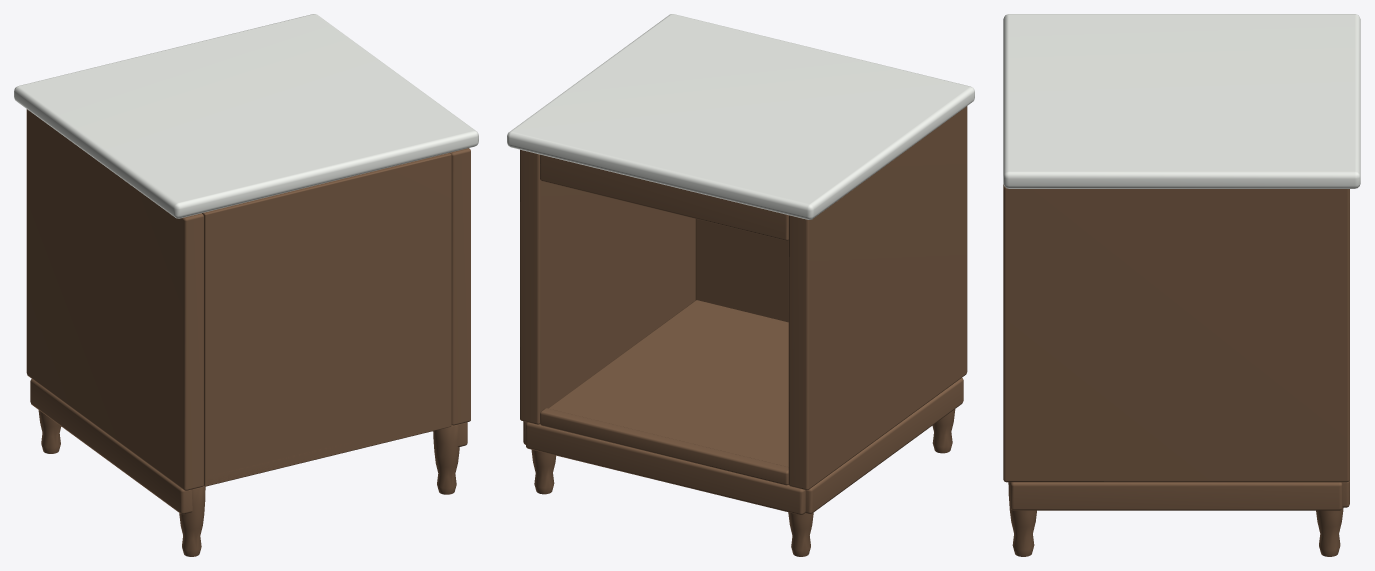
Rendered from lp_case_nightstand.glb.
The picture shows the model from 3 angles, left to right: view 1: azimuth 30°, elevation 25°; view 2: azimuth 150°, elevation 25°; view 3: azimuth 270°, elevation 25°; orthographic projection. The views are drawn at different scales.
Parts seen in each view (by area): view 1: lp_case_nightstand; view 2: lp_case_nightstand; view 3: lp_case_nightstand.
Part boxes in pixels (x1,y1,x2,y2): lp_case_nightstand: (14,14,478,556); lp_case_nightstand: (507,14,974,556); lp_case_nightstand: (1003,14,1360,556).
Bounding box in the file's own units: 0.53 × 0.6 × 0.495.
